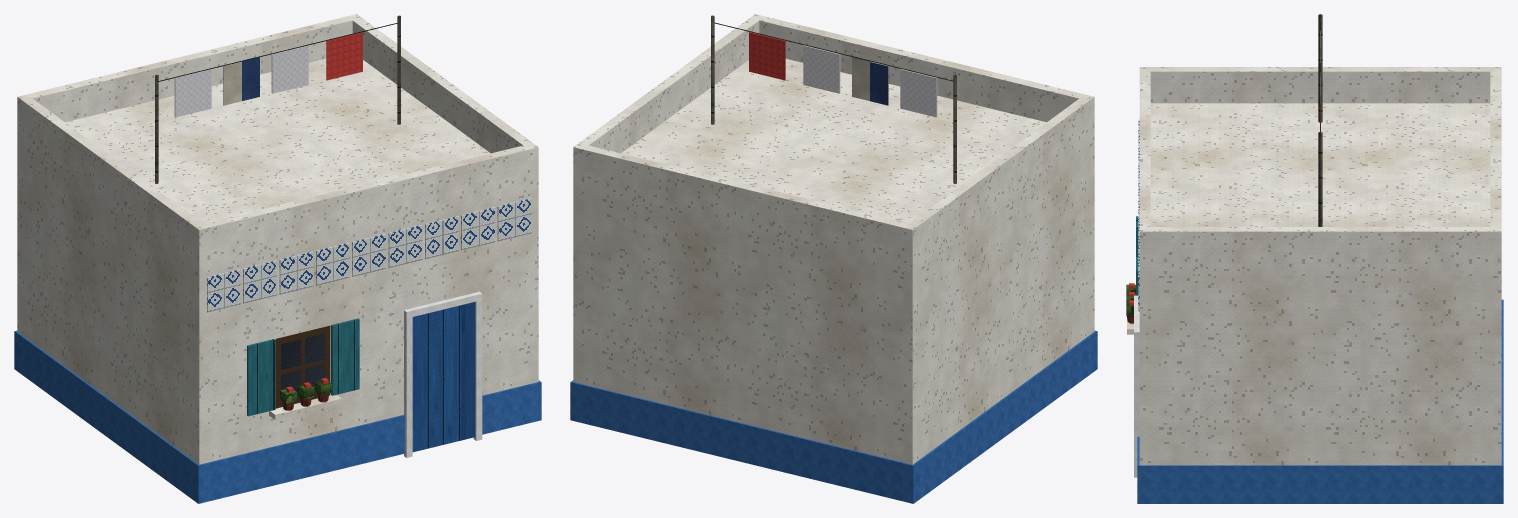
Rendered from casa_azotea.obj.
3 views of the same model, side by side, from view 1: azimuth 30°, elevation 25°; view 2: azimuth 150°, elevation 25°; view 3: azimuth 270°, elevation 25° (orthographic).
Parts seen in each view (by area): view 1: casa_azotea; view 2: casa_azotea; view 3: casa_azotea.
Part boxes in pixels (<box>): casa_azotea: <box>14,14,541,503</box>; casa_azotea: <box>570,14,1097,503</box>; casa_azotea: <box>1126,14,1503,503</box>.
Size of the model in its own units: 5.66 by 5.55 by 5.42.
14 materials, 14 textured.
